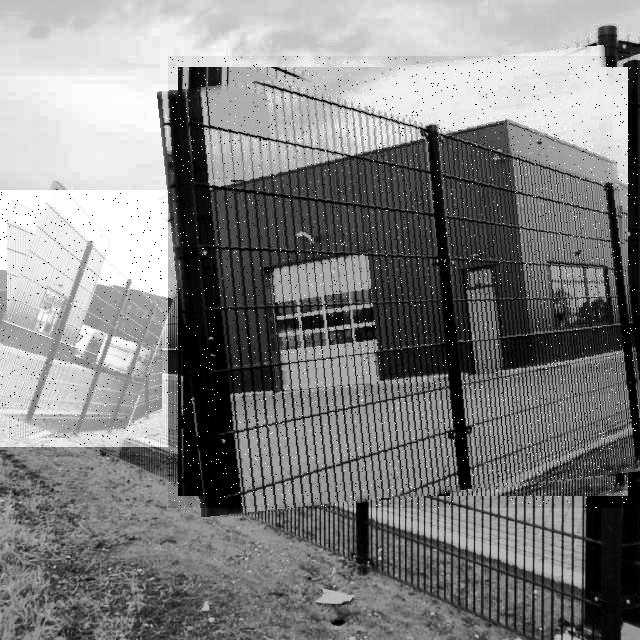fences: (168, 56, 638, 508), (0, 190, 181, 447)
